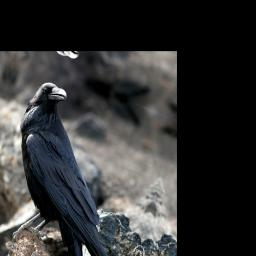Crow: (0, 74, 171, 256)
